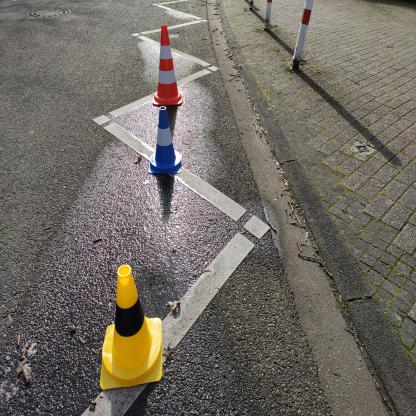Cones_big: (145, 20, 188, 108)
Cones_small_blue: (139, 105, 188, 190)
Cones_small_yellow: (90, 262, 170, 390)
